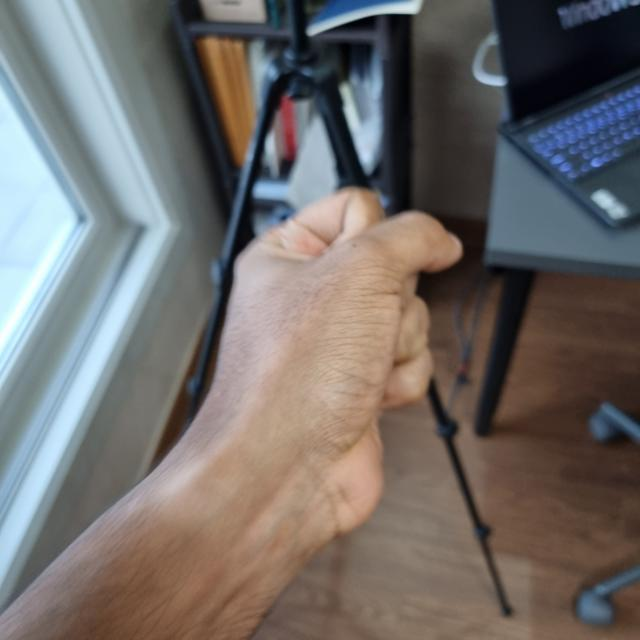Rock: (169, 186, 456, 609)
